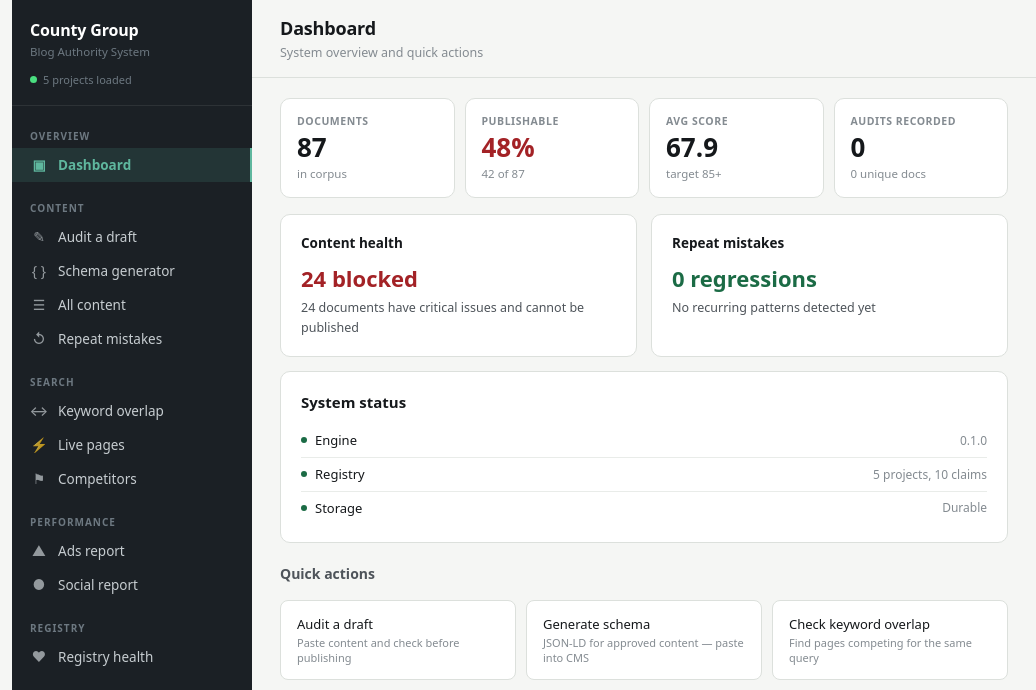
Test: audit flow › shows the score and publishable state after auditing
Click the tab "✎ Audit a draft" at (132, 237), box x1=12 y1=220 x2=252 y2=254
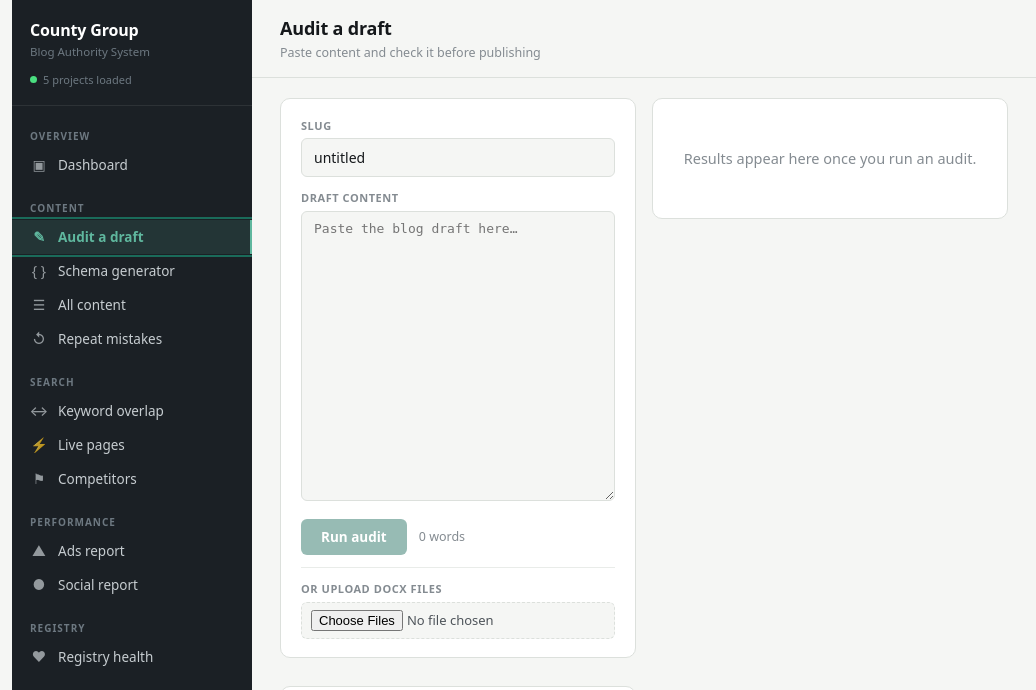
Type "Some copy" into the text box labelled "Draft content" at (458, 356), box x1=301 y1=211 x2=615 y2=501
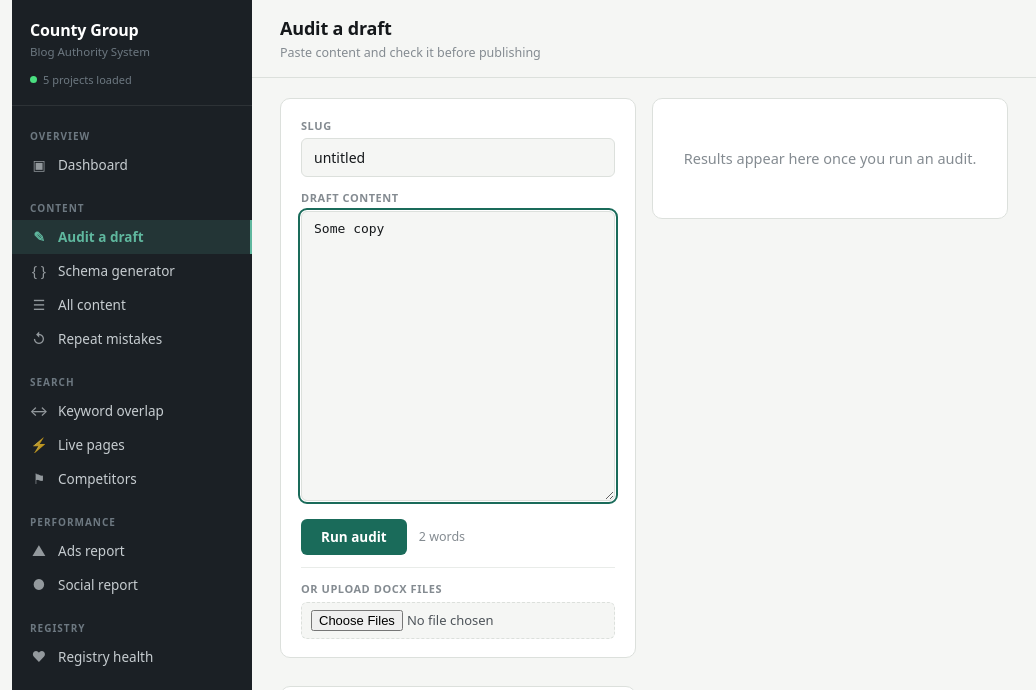
Click the button "Run audit" at (354, 537), box x1=301 y1=519 x2=407 y2=555
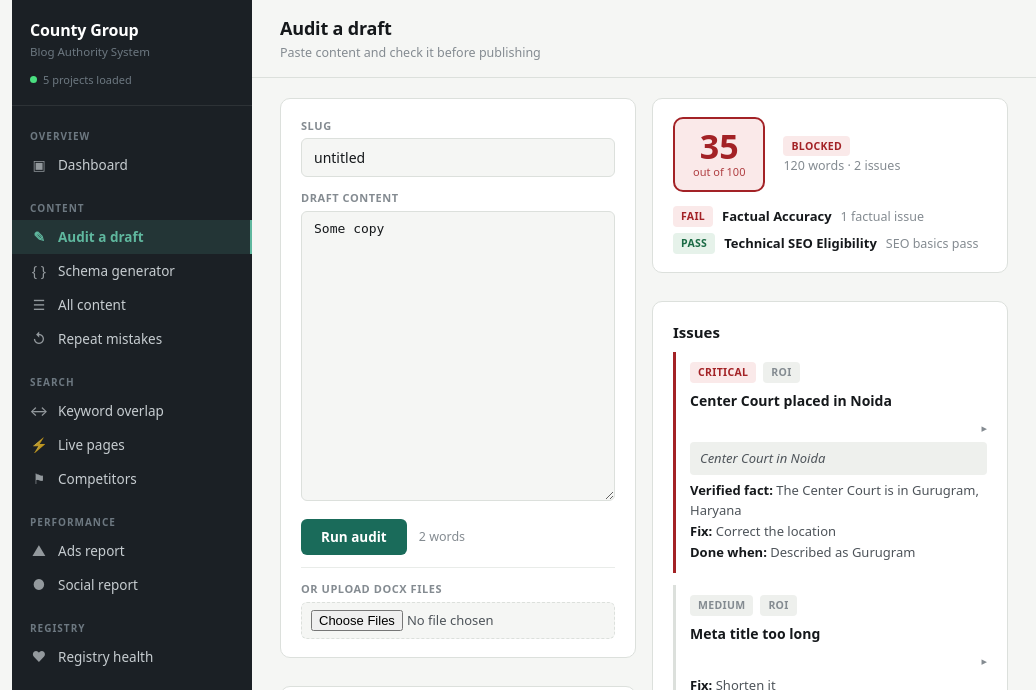
Check: the text "35" is shown, box x1=700 y1=123 x2=739 y2=169
Check: the text "Blocked" is shown, box x1=784 y1=136 x2=850 y2=156
